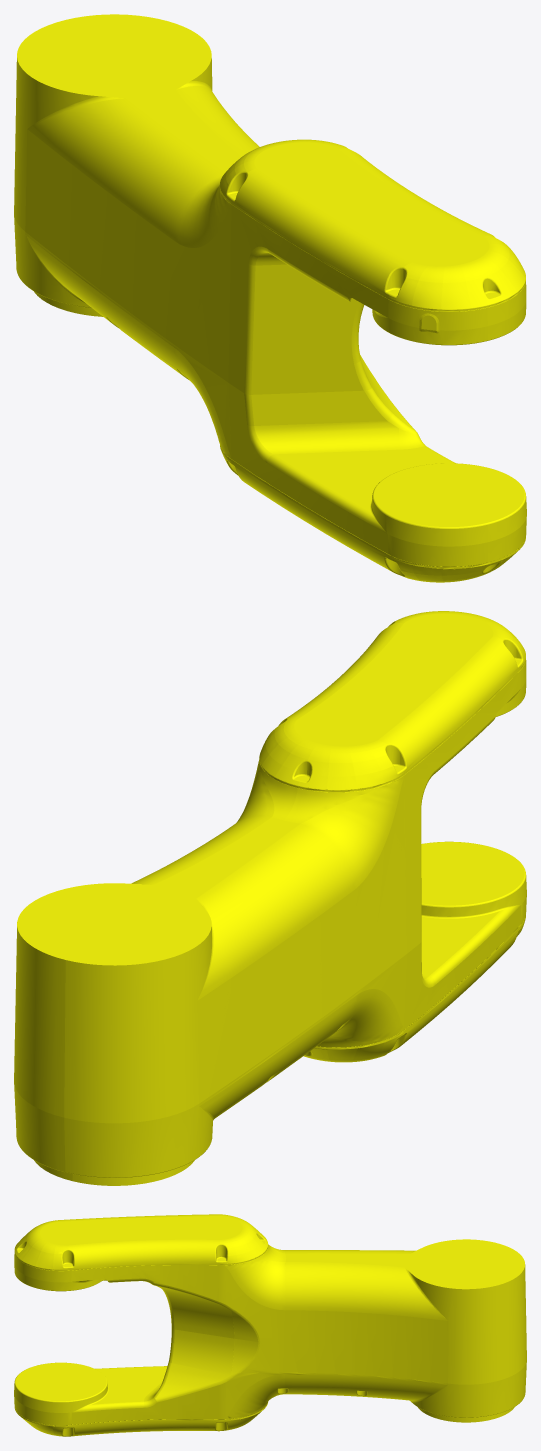
3 renders of one model, top to bottom at view 1: azimuth 30°, elevation 25°; view 2: azimuth 150°, elevation 25°; view 3: azimuth 270°, elevation 25°, orthographic. The views are drawn at different scales.
Parts seen in each view (by area): view 1: Mesh_0; view 2: Mesh_0; view 3: Mesh_0.
Boxes of the visible parts, left/top/right/bottom form: Mesh_0: left=14, top=14, right=526, bottom=582; Mesh_0: left=14, top=611, right=526, bottom=1185; Mesh_0: left=14, top=1214, right=526, bottom=1436.
Size of the model in its own units: 0.1352 by 0.227 by 0.5571.
